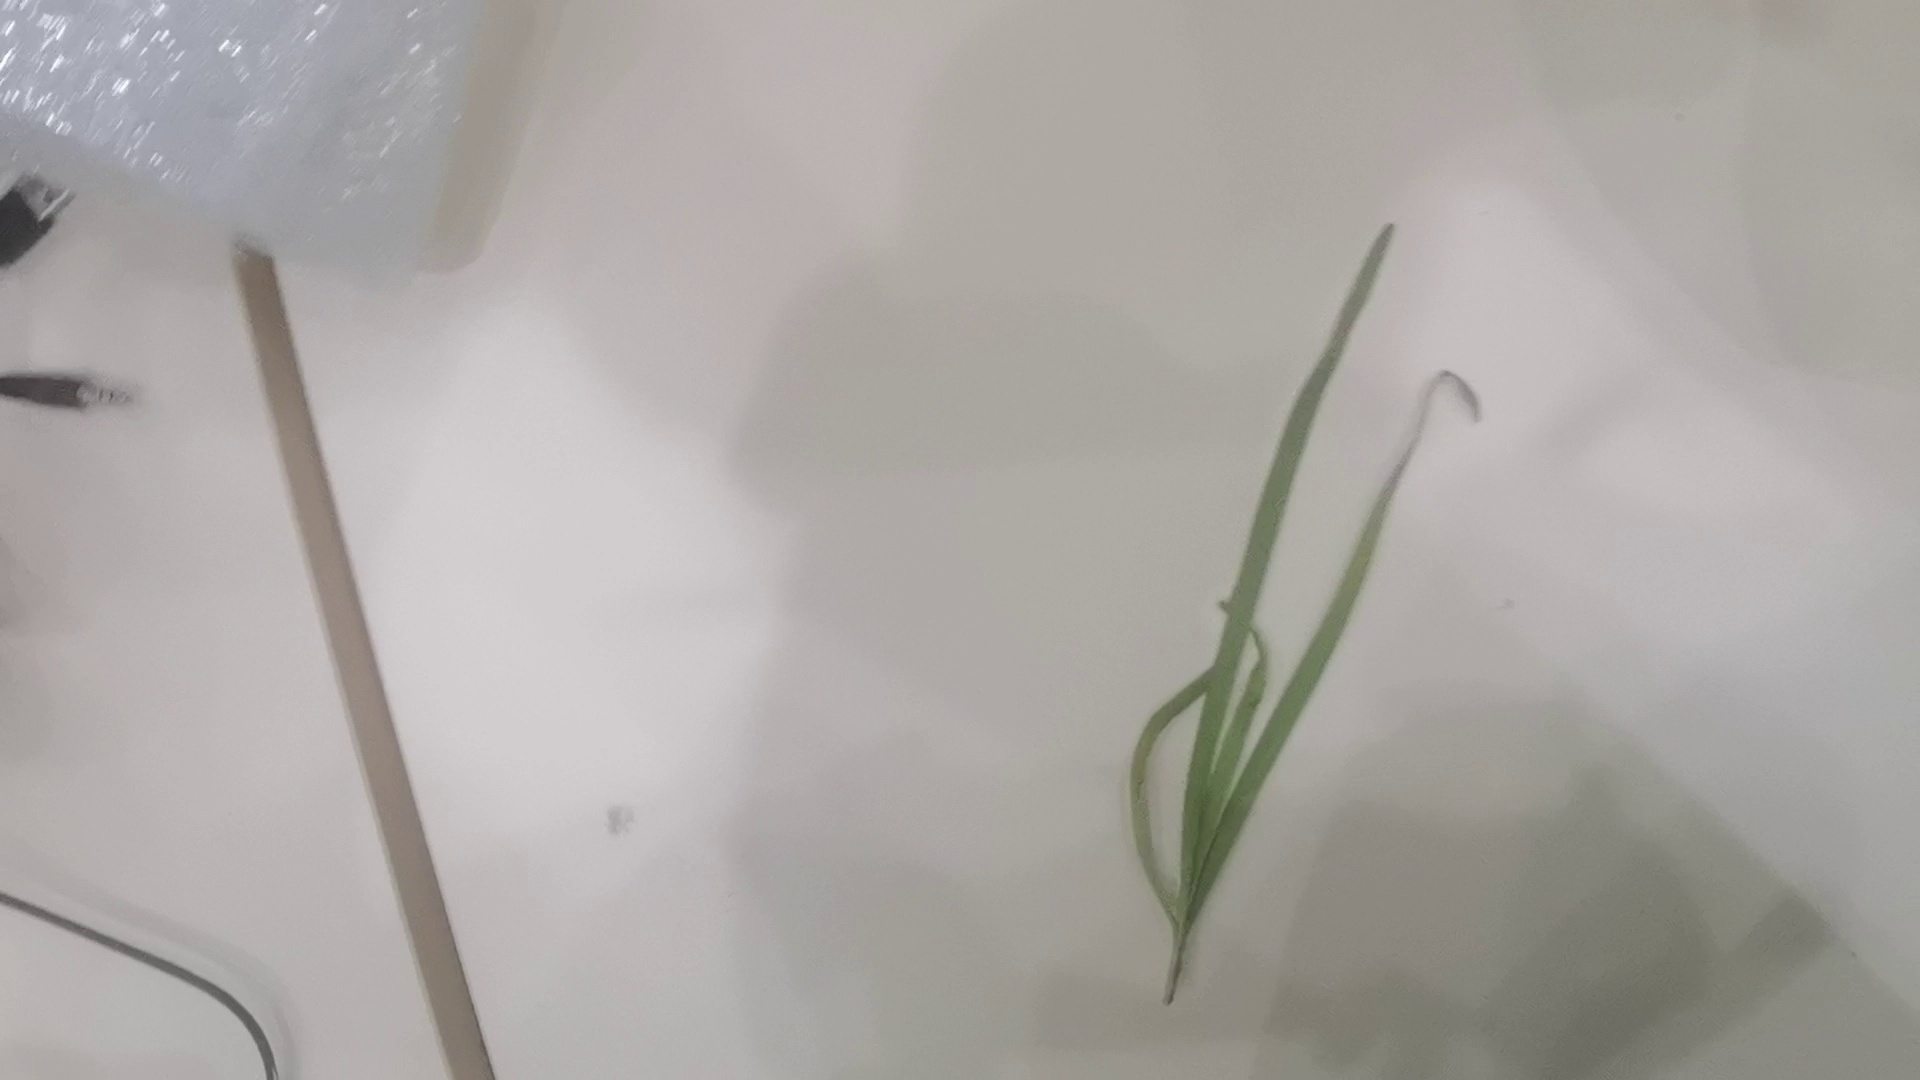chives: (1076, 218, 1484, 1030)
